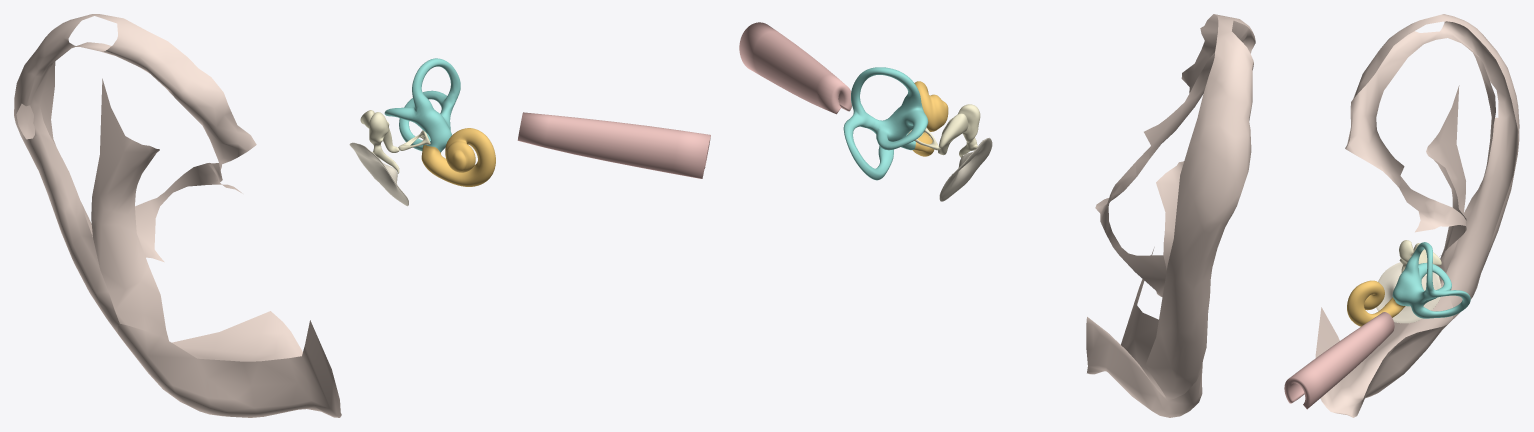
Rendered from ear.glb.
3 views of the same model, side by side, from view 1: azimuth 30°, elevation 25°; view 2: azimuth 150°, elevation 25°; view 3: azimuth 270°, elevation 25° (orthographic). The views are drawn at different scales.
Visible parts, largest first — view 1: Helix, Lobule of auricle, Antihelix, Auditory tube, Vestibule, Cochlea, Concha of auricle, Tympanic membrane, Malleus; view 2: Helix, Lobule of auricle, Auditory tube, Vestibule, Concha of auricle, Antihelix, Cochlea, Tympanic membrane, Malleus, Incus; view 3: Helix, Lobule of auricle, Auditory tube, Vestibule, Antihelix, Concha of auricle, Cochlea, Tympanic membrane, Malleus.
Boxes of the visible parts, x1,y1,x2,y2 form: Helix: (14, 14, 256, 336); Lobule of auricle: (117, 311, 341, 417); Antihelix: (91, 78, 168, 340); Auditory tube: (517, 112, 710, 178); Vestibule: (384, 58, 460, 152); Cochlea: (421, 128, 495, 186); Concha of auricle: (135, 163, 242, 262); Tympanic membrane: (349, 142, 408, 206); Malleus: (369, 112, 399, 173); Helix: (1144, 14, 1255, 398); Lobule of auricle: (1086, 247, 1202, 417); Auditory tube: (739, 22, 851, 114); Vestibule: (843, 67, 928, 180); Concha of auricle: (1095, 146, 1166, 297); Antihelix: (1156, 161, 1184, 269); Cochlea: (912, 81, 948, 156); Tympanic membrane: (939, 138, 992, 201); Malleus: (958, 104, 980, 157); Incus: (938, 113, 968, 155); Helix: (1345, 14, 1519, 320); Lobule of auricle: (1315, 283, 1452, 417); Auditory tube: (1284, 312, 1394, 409); Vestibule: (1392, 242, 1470, 318); Antihelix: (1426, 85, 1465, 283); Concha of auricle: (1399, 176, 1466, 256); Cochlea: (1347, 280, 1405, 326); Tympanic membrane: (1376, 262, 1441, 323); Malleus: (1399, 240, 1413, 272).
Size of the model in its own units: 2.6 by 1.72 by 1.11.
